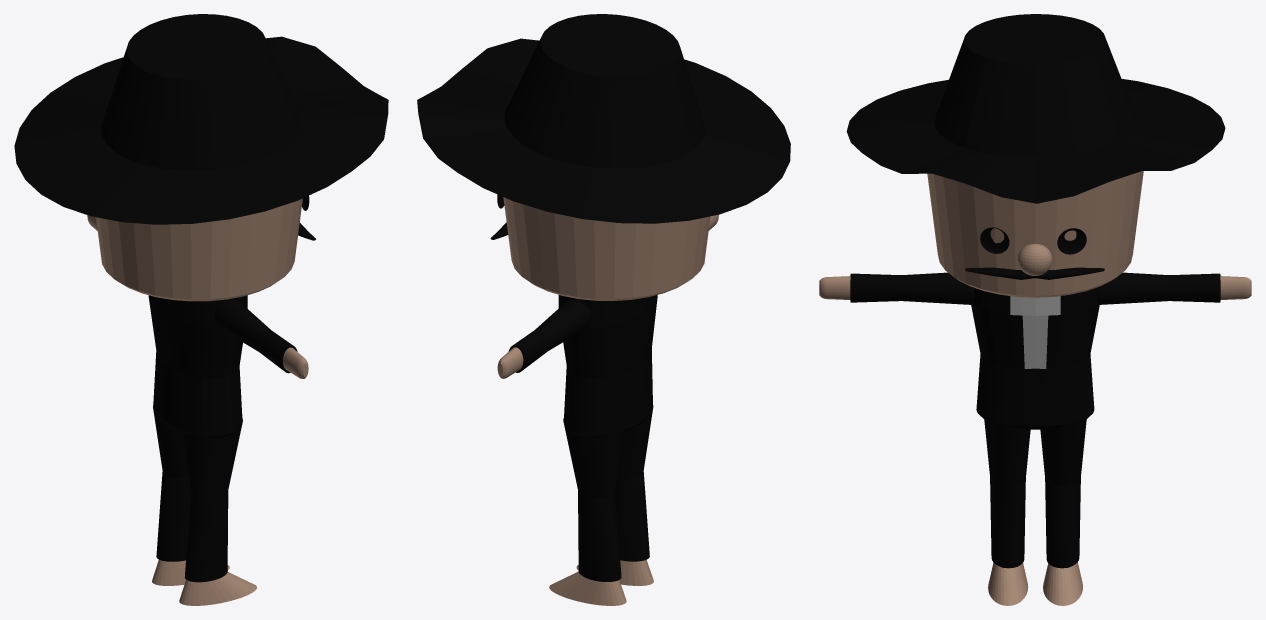
The model's file is black_stenston.fbx.
3 renders of one model, left to right at view 1: azimuth 30°, elevation 25°; view 2: azimuth 150°, elevation 25°; view 3: azimuth 270°, elevation 25°, orthographic.
Visible parts, largest first — view 1: Cylinder.015, Headd.002, Cylinder.049, Cylinder.052, Cylinder.053, Cylinder.050, Cylinder.047, Cylinder.038, Cylinder.055; view 2: Cylinder.015, Headd.002, Cylinder.049, Cylinder.053, Cylinder.052, Cylinder.051, Cylinder.038, Cylinder.047, Cylinder.056; view 3: Cylinder.015, Headd.002, Cylinder.049, Cylinder.053, Cylinder.052, Cylinder.051, Cylinder.050, Cylinder.047, Cylinder.038, Cylinder.014, Eyes.007, Sphere.002 (+2 smaller).
Boxes of the visible parts, box(x1,y1,x2,y2) form: Cylinder.015: box(14, 14, 388, 224); Headd.002: box(96, 198, 302, 301); Cylinder.049: box(148, 295, 247, 438); Cylinder.052: box(181, 418, 242, 582); Cylinder.053: box(153, 405, 191, 561); Cylinder.050: box(214, 300, 297, 373); Cylinder.047: box(179, 572, 256, 605); Cylinder.038: box(152, 559, 229, 585); Cylinder.055: box(283, 347, 308, 378); Cylinder.015: box(417, 14, 790, 223); Headd.002: box(503, 197, 710, 300); Cylinder.049: box(558, 295, 657, 437); Cylinder.053: box(563, 418, 624, 581); Cylinder.052: box(615, 405, 653, 561); Cylinder.051: box(508, 300, 591, 372); Cylinder.038: box(549, 571, 626, 605); Cylinder.047: box(576, 559, 653, 585); Cylinder.056: box(497, 347, 523, 378); Cylinder.015: box(846, 14, 1225, 203); Headd.002: box(927, 171, 1143, 297); Cylinder.049: box(971, 287, 1099, 429); Cylinder.053: box(1040, 419, 1086, 568); Cylinder.052: box(984, 420, 1030, 568); Cylinder.051: box(1096, 272, 1220, 304); Cylinder.050: box(850, 272, 974, 304); Cylinder.047: box(988, 562, 1028, 605); Cylinder.038: box(1043, 562, 1082, 605); Cylinder.014: box(965, 267, 1104, 279); Eyes.007: box(980, 227, 1086, 254); Sphere.002: box(1017, 244, 1052, 275).
Size of the model in its own units: 301 by 484 by 346.
